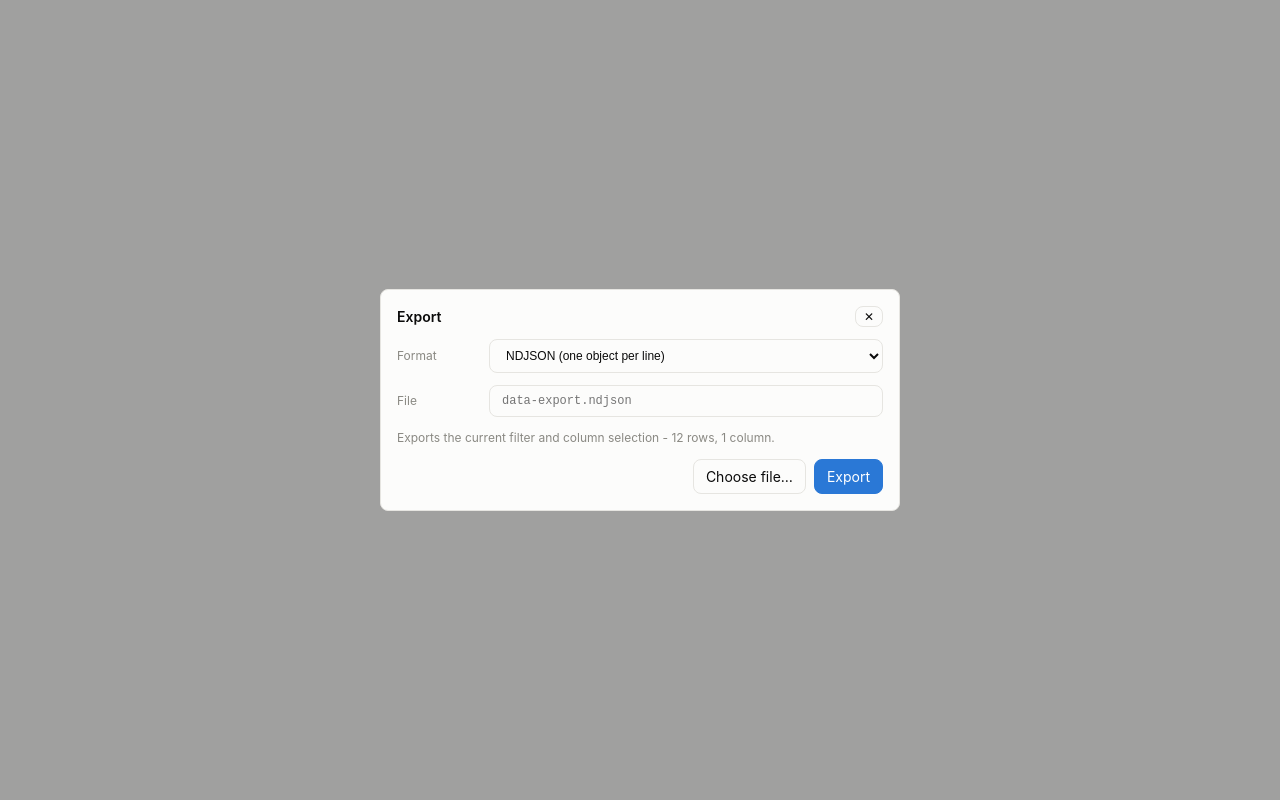
Scenario: ExportDialog review fixes › warns when the chosen file's extension does not match the format, without blocking
The width and height of the screenshot is (1280, 800).
Type "C:/out.csv" into the field named "Output file" at (686, 401), box [489, 385, 883, 417]
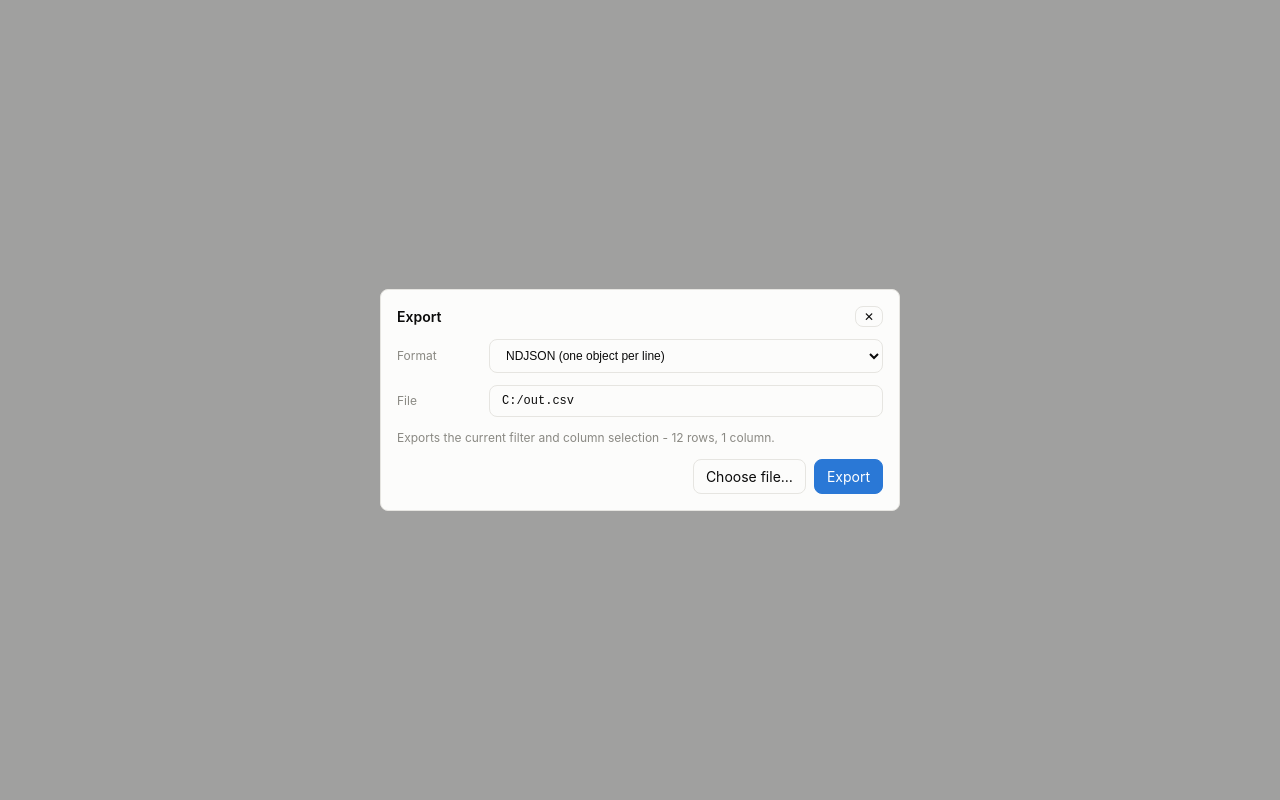
Select "Parquet" in the dropdown named "Export format" at (686, 356), box [489, 339, 883, 373]
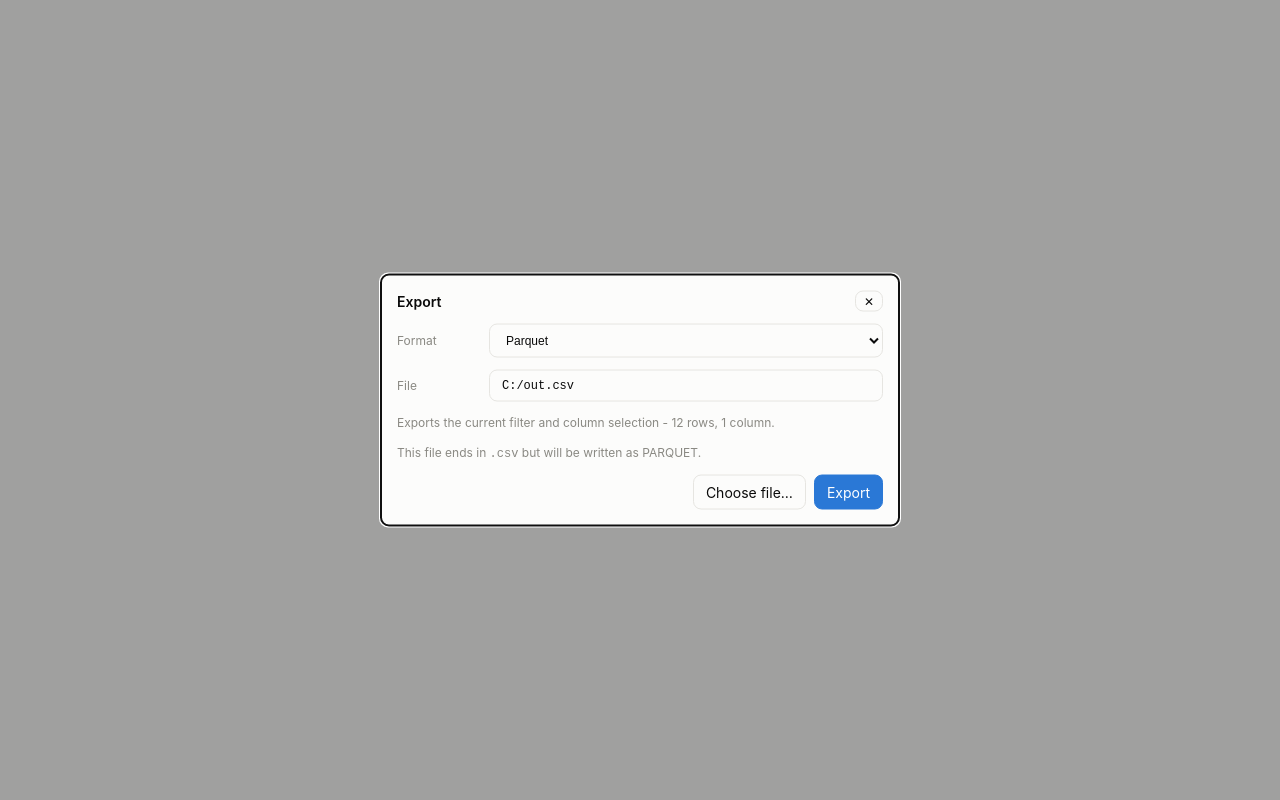
Expected: the button "Export" is enabled, [814, 474, 883, 510]
Expected: the element with class "note" shows "csv", [497, 446, 518, 460]
